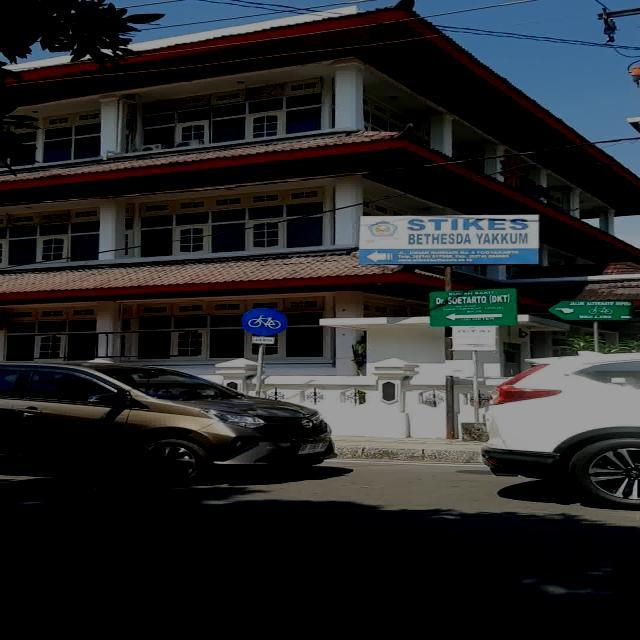Jalur Sepeda: (241, 308, 288, 337)
